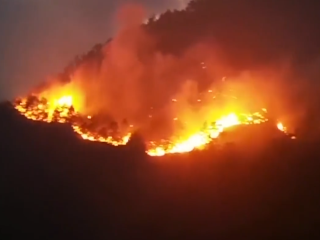fire: (134, 95, 284, 170), (17, 76, 133, 154)
smoke: (66, 9, 311, 103)
